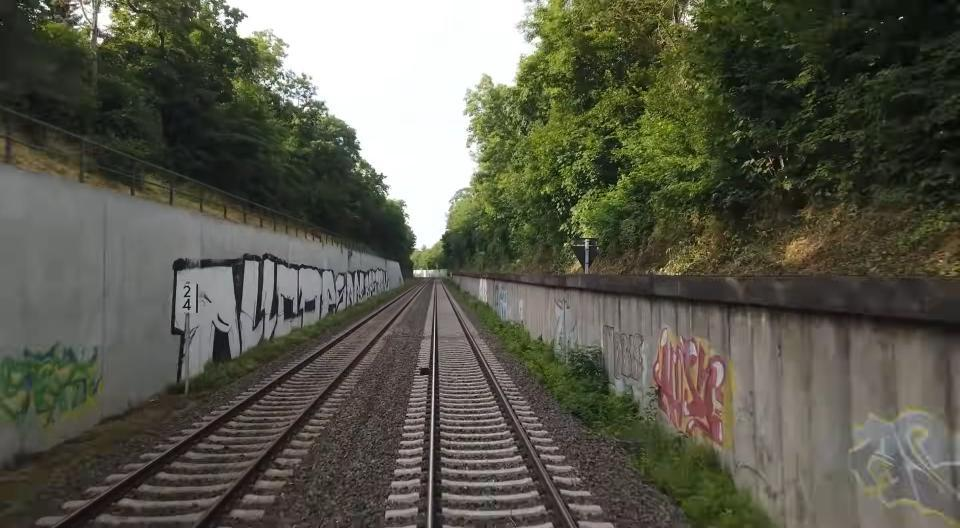Plant: (462, 295, 776, 528), (188, 287, 407, 394)
